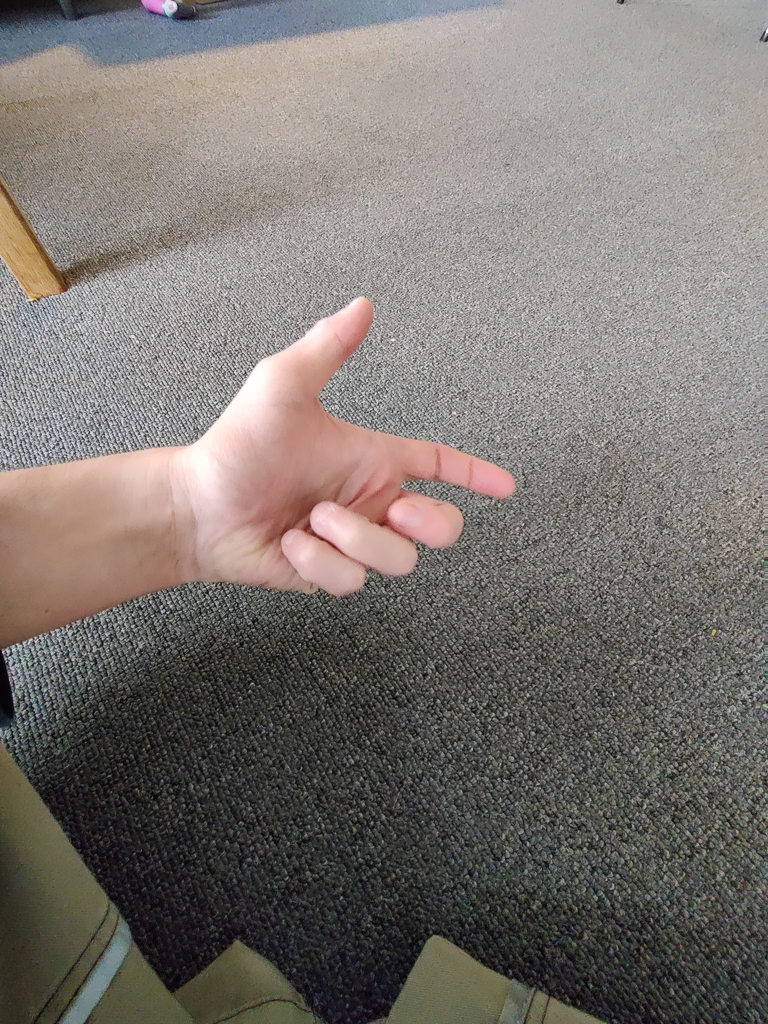Humanoid: (0, 282, 626, 1024)
